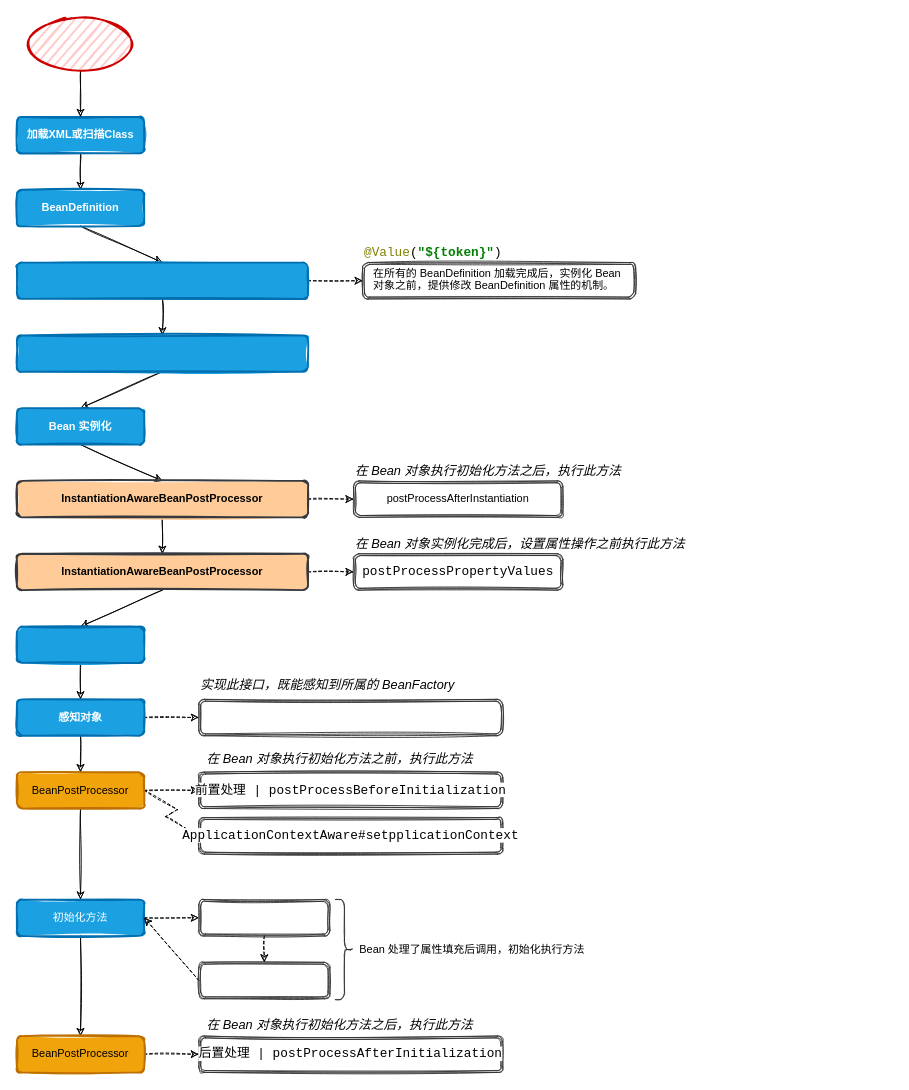
Some shapes in this 909 by 1090 pixel diagram are drawn without their labels. Here are the shapes that lost their labels. From the top down, the centre of each, then its label:
the point at 80,43: 开始
the point at 161,280: BeanFactoryPostProcessor update BeanDefinition
the point at 161,353: resolveBeforeInstantiation InstantiationAwareBeanPostProcessor
the point at 80,644: 设置属性
the point at 350,717: BeanFactoryAware# setBeanFactory
the point at 264,917: InitializingBean
the point at 264,980: init-method
